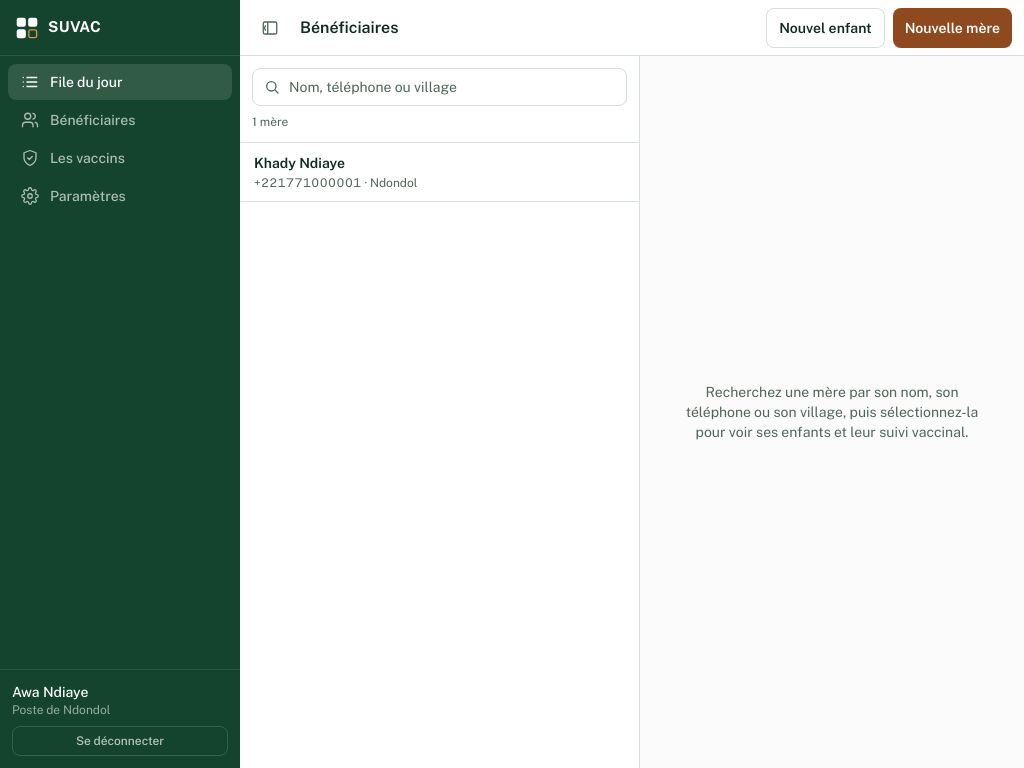
Test: Beneficiaires › ouvre le formulaire de création
The image size is (1024, 768).
Click the button "Nouvelle mère" at x=952, y=28, box left=893, top=8, right=1012, bottom=48
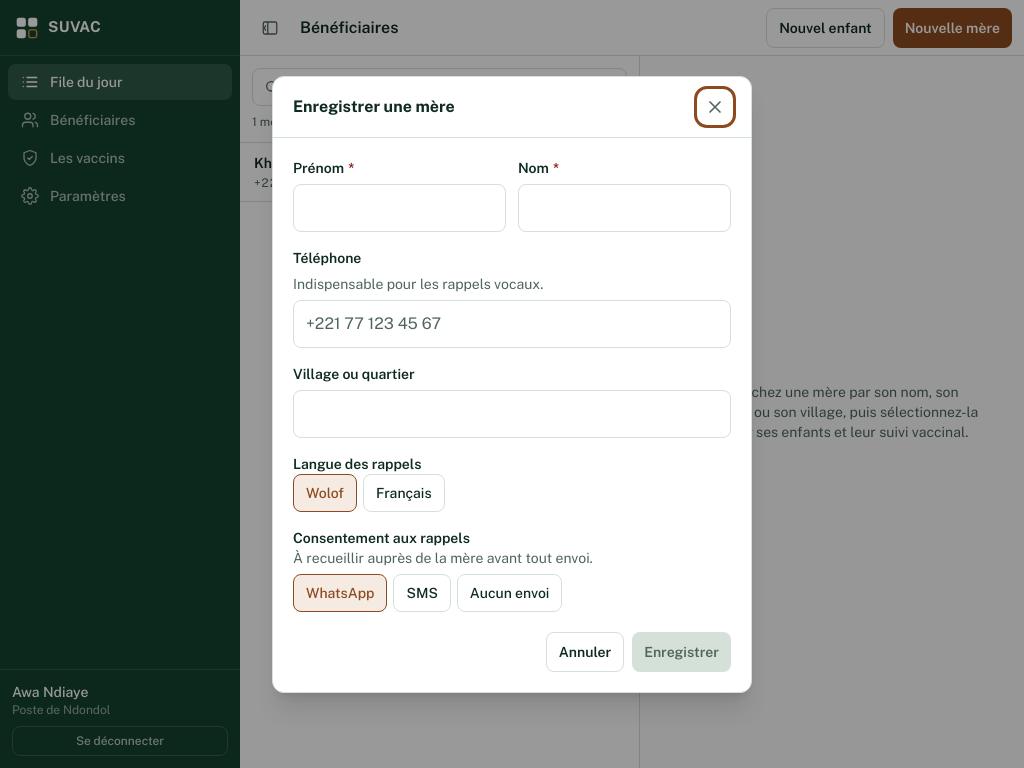
Expected: the heading "Enregistrer une mère" is shown, left=293, top=94, right=455, bottom=118
